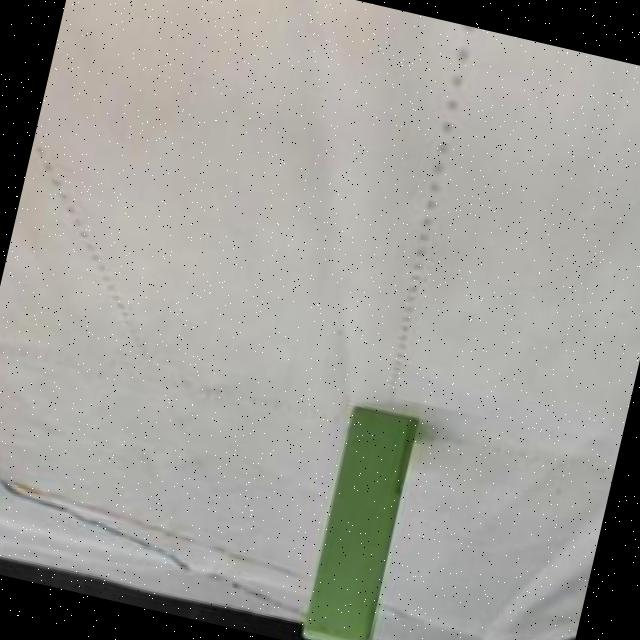greenbox: (294, 405, 420, 640)
